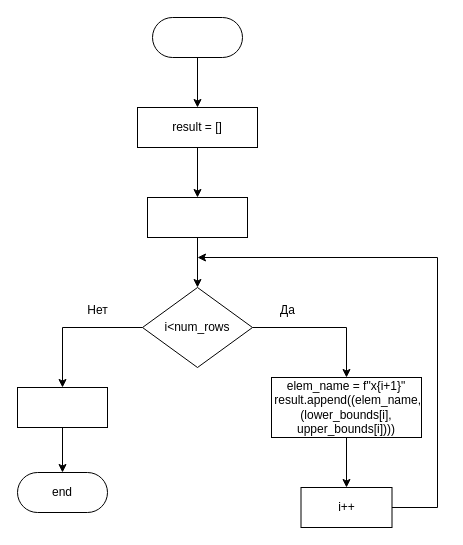
This 463x545 diagram has some shape labels left out. The centre of each missing label's shape, as x and y in pixels:
"begin" goes at pixel 197 37.
"i=0" goes at pixel 197 217.
"return result" goes at pixel 62 407.
